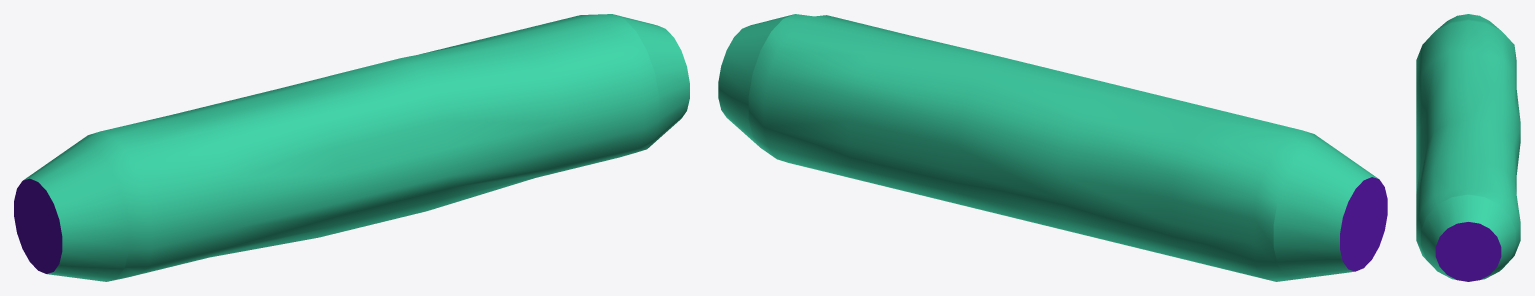
Rendered from Tree Log.fbx.
3 views of the same model, side by side, from view 1: azimuth 30°, elevation 25°; view 2: azimuth 150°, elevation 25°; view 3: azimuth 270°, elevation 25° (orthographic). The views are drawn at different scales.
Parts seen in each view (by area): view 1: Tree Log; view 2: Tree Log; view 3: Tree Log.
Boxes of the visible parts, box(x1,y1,x2,y2) form: Tree Log: box(14, 14, 689, 281); Tree Log: box(718, 14, 1387, 281); Tree Log: box(1416, 14, 1520, 281).
Size of the model in its own units: 40.64 by 8.78 by 8.65.
2 materials, 2 textured.
